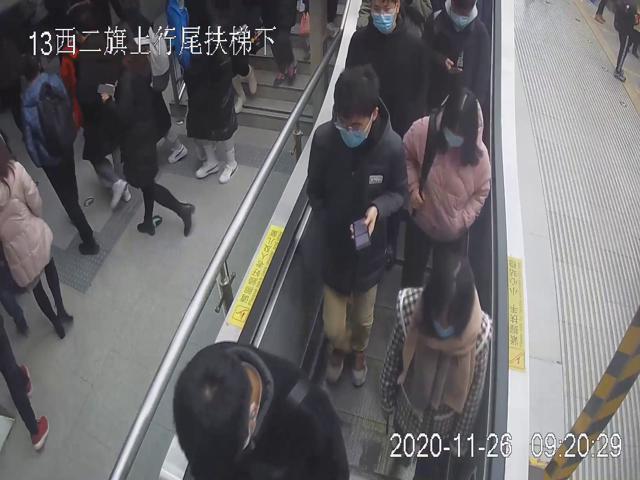person: (306, 60, 408, 391), (377, 250, 493, 480), (401, 84, 495, 292), (343, 0, 429, 128)
